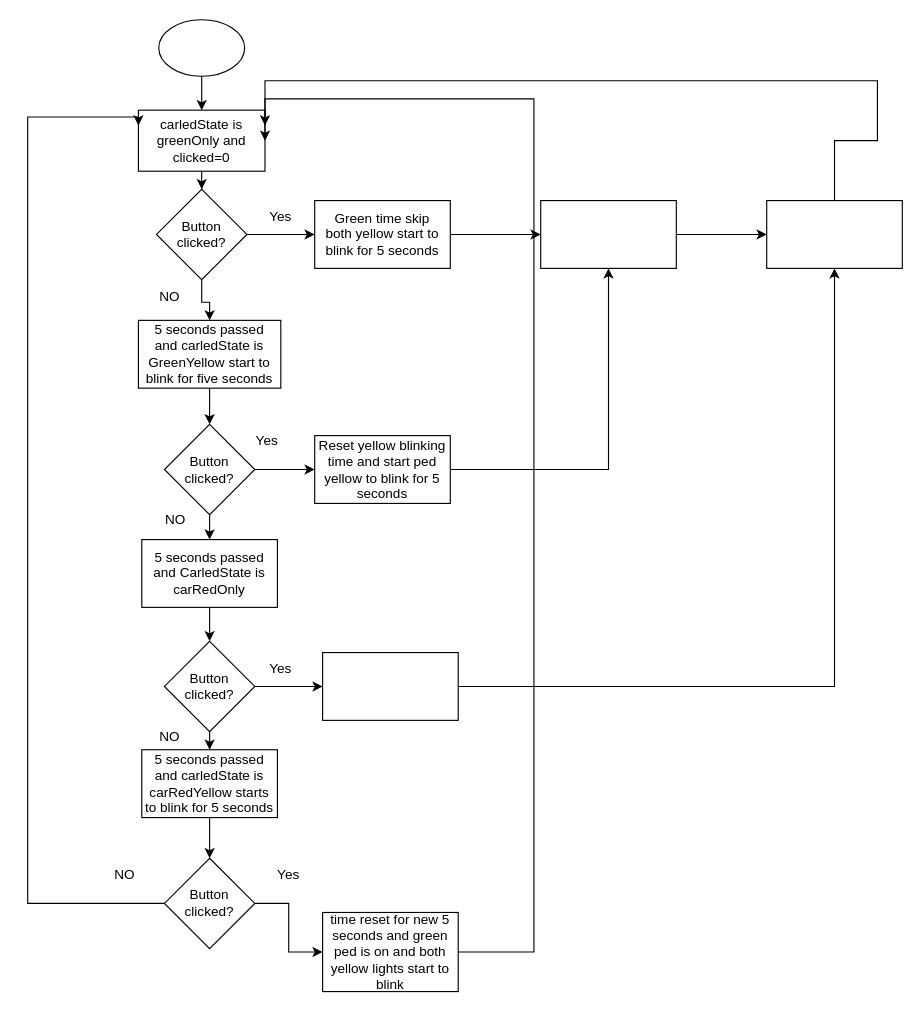
This 922x1012 diagram has some shape labels left out. Each missing label, with the box of its shape:
5 seconds passed both yellow starts to blink: (766, 199, 902, 268)
5 seconds passed green ped is on and red car is on: (540, 199, 676, 268)
Reset Red car time has to stay and turn on green ped light: (321, 651, 458, 720)
Start: (158, 19, 245, 76)
